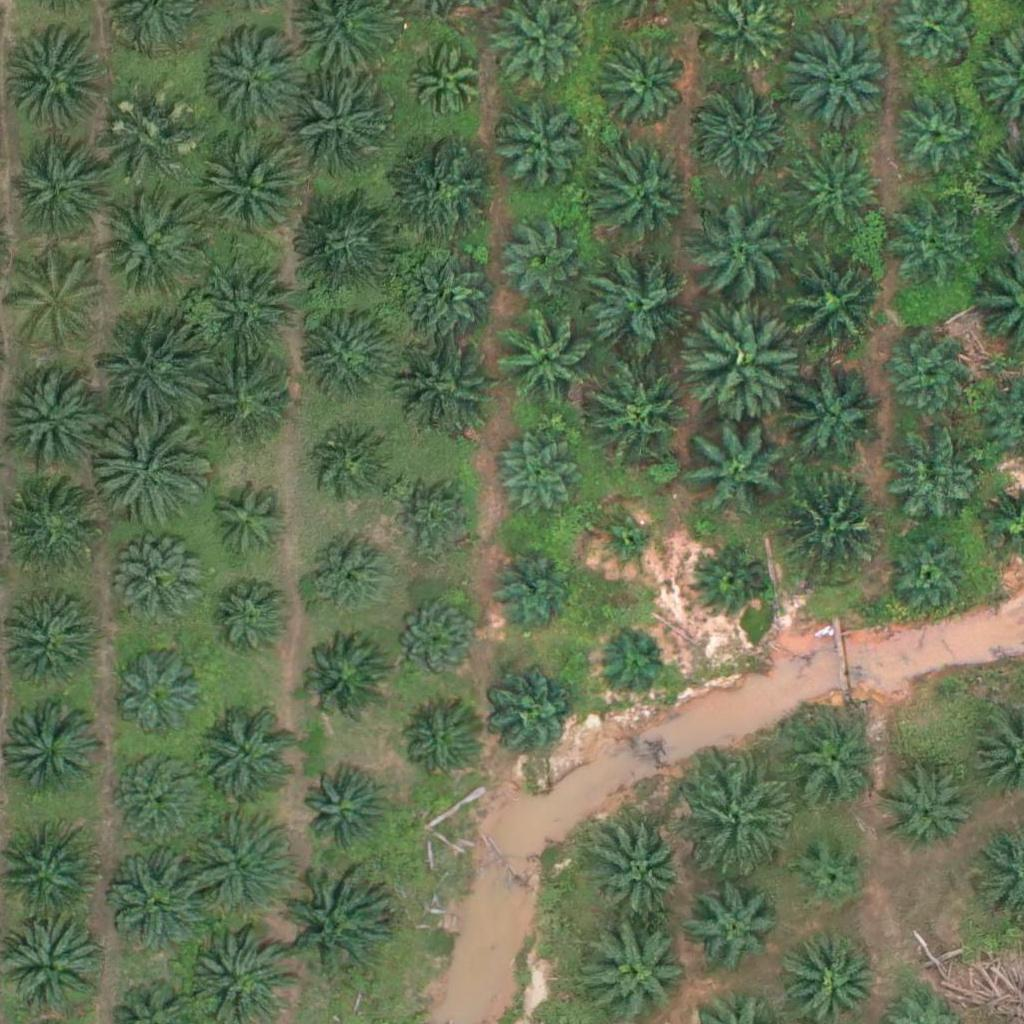Kelapa_Sawit: (587, 138, 700, 252), (679, 763, 792, 877), (382, 134, 495, 247), (693, 304, 806, 417), (277, 868, 390, 981), (95, 412, 207, 526), (95, 320, 207, 434), (692, 198, 804, 312), (5, 362, 117, 475), (286, 73, 398, 186), (294, 186, 406, 299), (586, 248, 698, 361), (585, 350, 697, 463), (688, 413, 800, 526), (781, 19, 893, 132), (781, 244, 893, 357), (779, 465, 891, 578), (180, 805, 292, 918), (6, 28, 106, 129), (3, 252, 103, 353), (2, 597, 102, 698), (3, 705, 103, 806), (100, 100, 200, 201), (205, 144, 305, 245), (200, 260, 300, 361), (198, 352, 298, 453), (296, 303, 396, 404), (497, 307, 597, 408), (788, 133, 888, 234), (781, 367, 881, 468), (784, 711, 884, 812), (879, 434, 979, 535), (111, 846, 211, 947), (5, 143, 105, 243), (111, 644, 211, 744), (101, 199, 201, 299), (201, 34, 301, 134), (197, 708, 297, 808), (398, 330, 498, 430), (697, 84, 797, 184), (592, 820, 692, 920), (202, 575, 290, 664), (116, 751, 204, 840), (308, 429, 396, 517), (495, 94, 583, 182), (503, 215, 591, 303), (495, 435, 583, 523), (492, 674, 580, 762), (887, 87, 975, 175), (885, 766, 973, 854), (397, 701, 484, 789), (392, 594, 479, 682), (392, 473, 479, 561), (199, 482, 286, 570), (302, 533, 389, 621), (298, 633, 385, 721), (118, 545, 205, 633), (403, 40, 490, 128), (404, 257, 491, 345), (490, 541, 577, 629), (604, 47, 691, 135), (890, 205, 977, 293), (886, 330, 973, 418), (888, 534, 975, 622), (689, 887, 776, 975), (303, 770, 390, 858), (690, 542, 765, 618), (793, 836, 868, 912), (596, 625, 671, 700), (597, 514, 660, 577)
